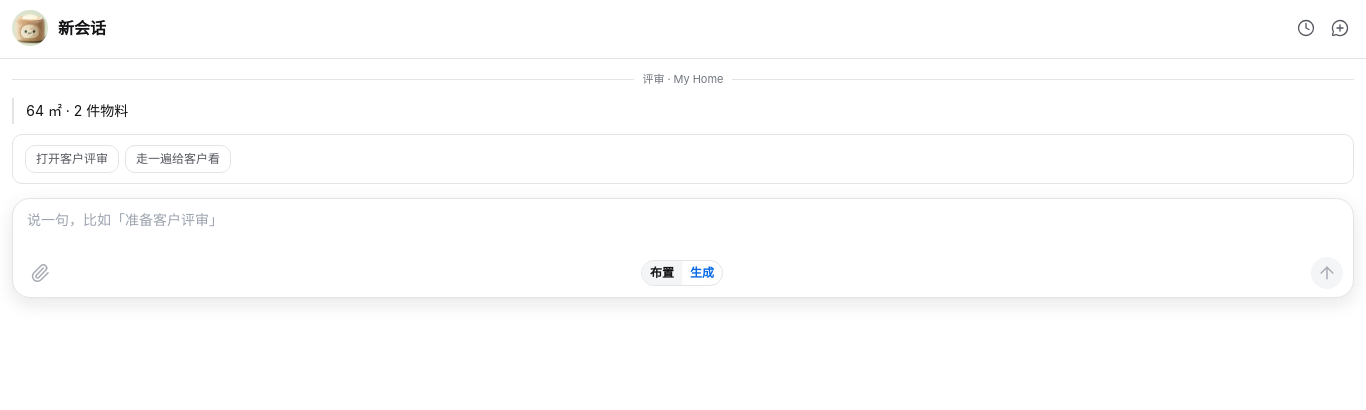
Test case: T-04 delivery narrative in the Agent panel › keeps the conversation visible in review mode
Step 1. Type "准备客户评审" into the text box named "告诉 Agent 要改的" → (685, 230), box [27,209,1343,251]
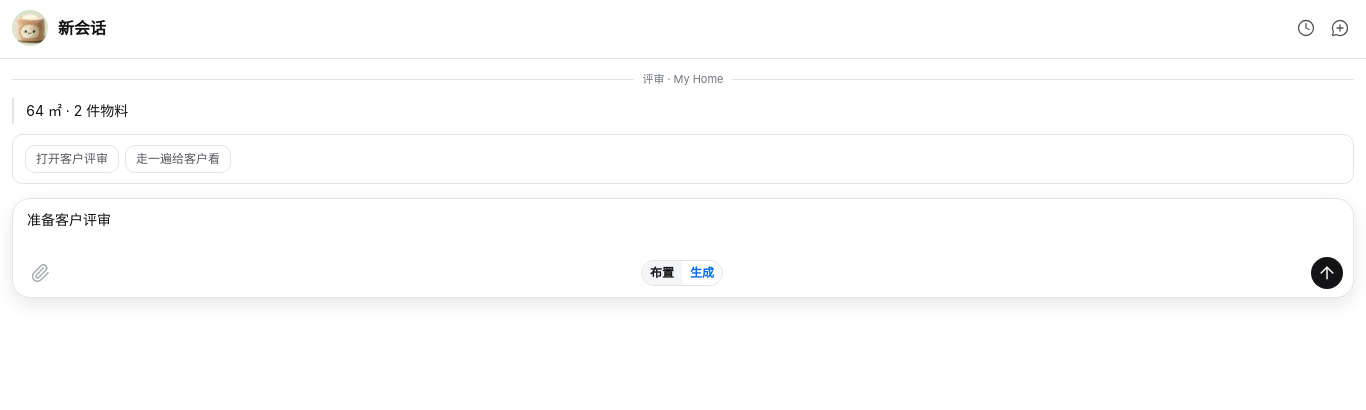
Step 2. Click the button named "发送" → click(1327, 273), box [1311,257,1343,289]
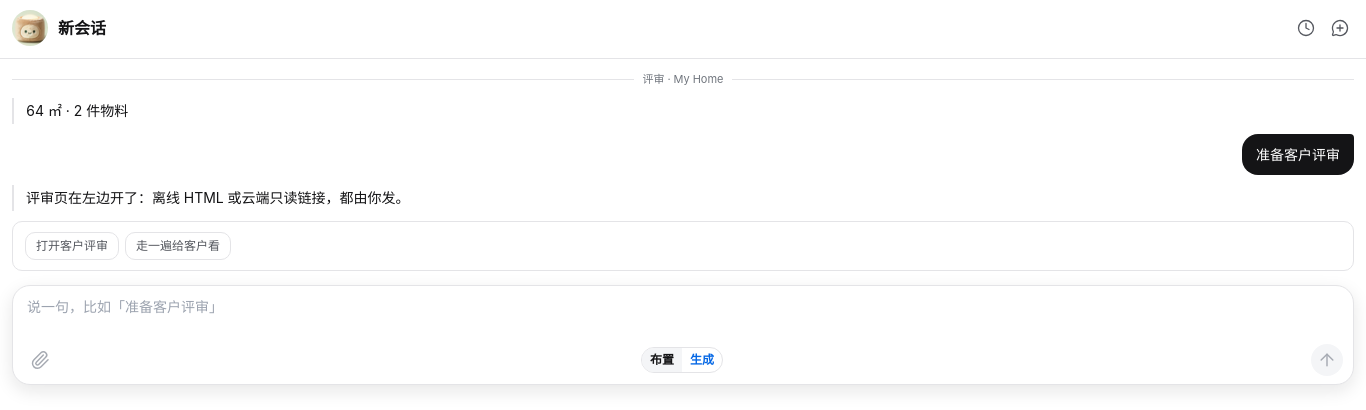
expect the element with class "ap-user" reads "准备客户评审": met, box [1256,146,1340,163]
